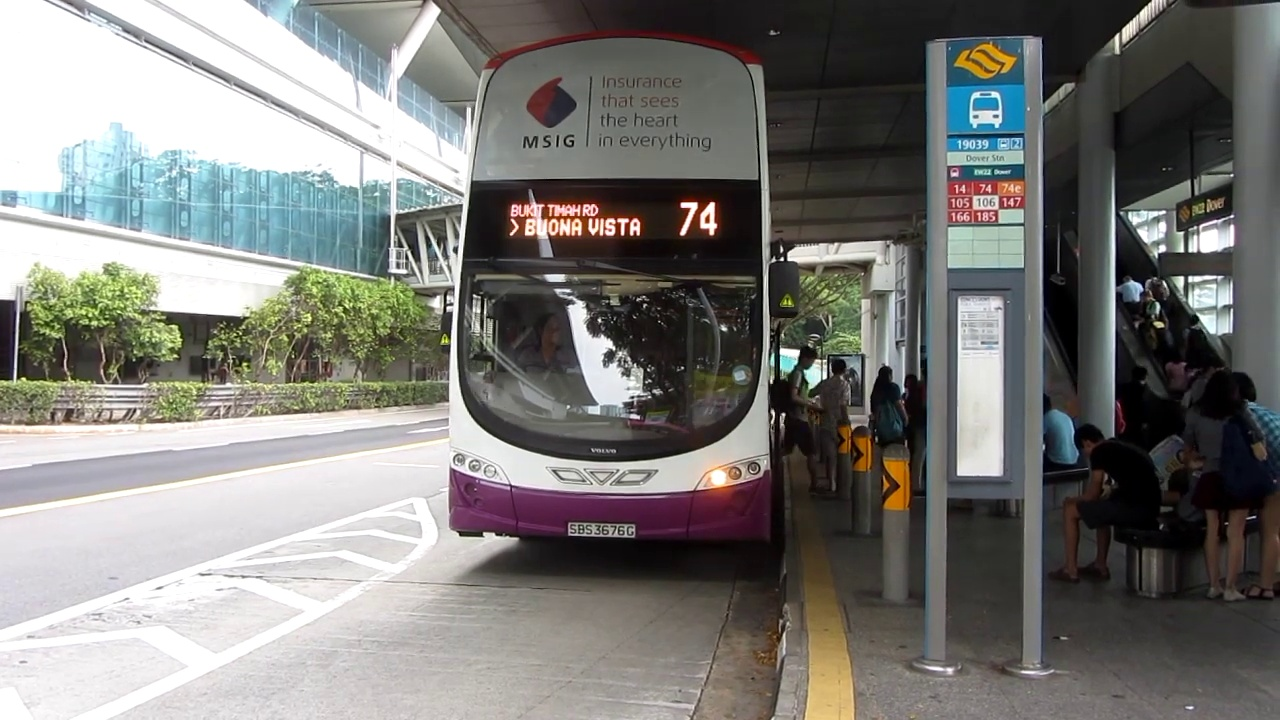bus panel: (503, 198, 723, 241)
